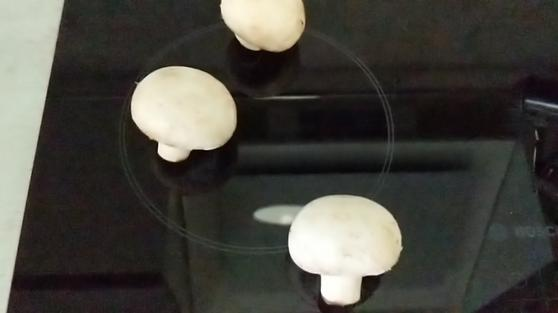champignon: (286, 194, 404, 305), (127, 63, 243, 167), (213, 1, 315, 53)
